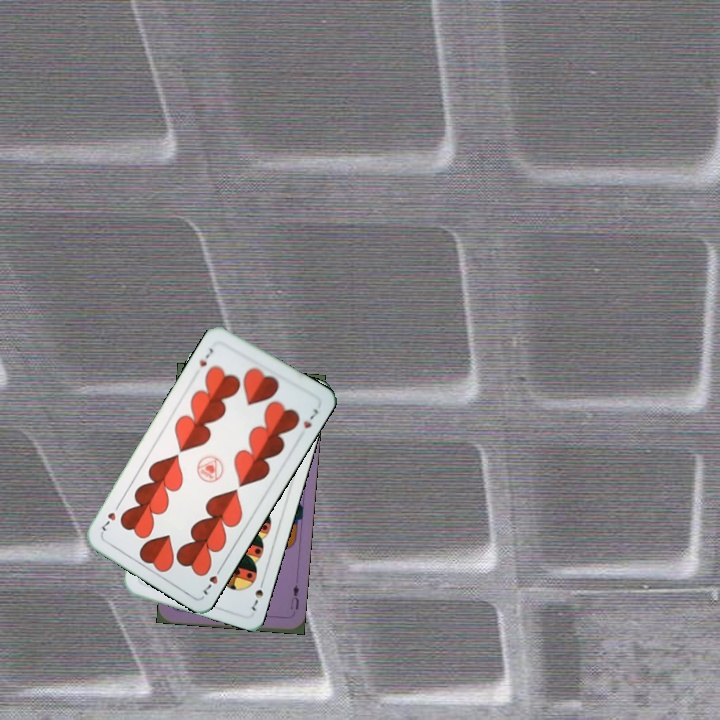EU: (286, 581, 301, 612)
H7: (199, 561, 225, 598), (195, 344, 217, 369)
S7: (247, 575, 267, 613)
